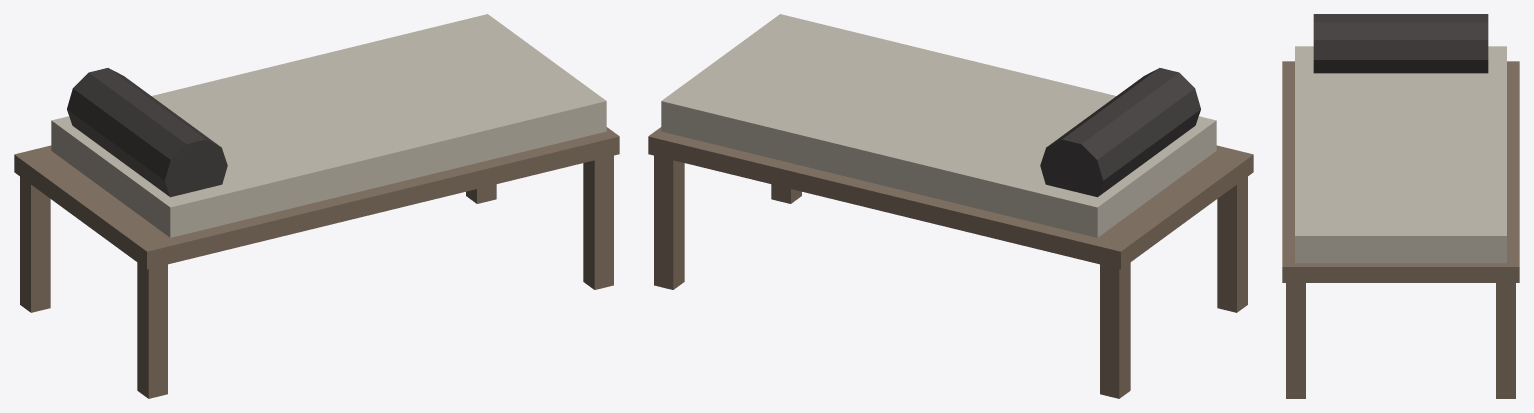
The model's file is IzbaBed.fbx.
3 views of the same model, side by side, from view 1: azimuth 30°, elevation 25°; view 2: azimuth 150°, elevation 25°; view 3: azimuth 270°, elevation 25° (orthographic). The views are drawn at different scales.
Visible parts, largest first — view 1: IzbaBed; view 2: IzbaBed; view 3: IzbaBed.
Part boxes in pixels (bbox=[...]): IzbaBed: bbox=[14, 14, 619, 398]; IzbaBed: bbox=[648, 14, 1253, 398]; IzbaBed: bbox=[1282, 14, 1519, 398].
Bounding box in the file's own units: 195 × 90.86 × 95.
